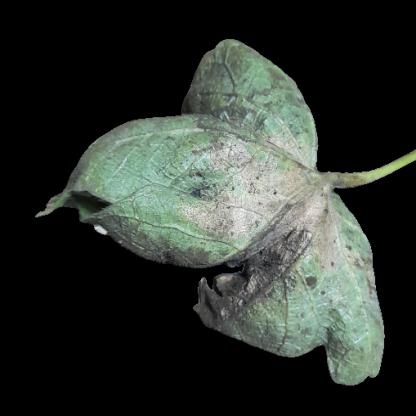curl_stage2: (109, 144, 169, 209)
sooty: (206, 179, 312, 307)
